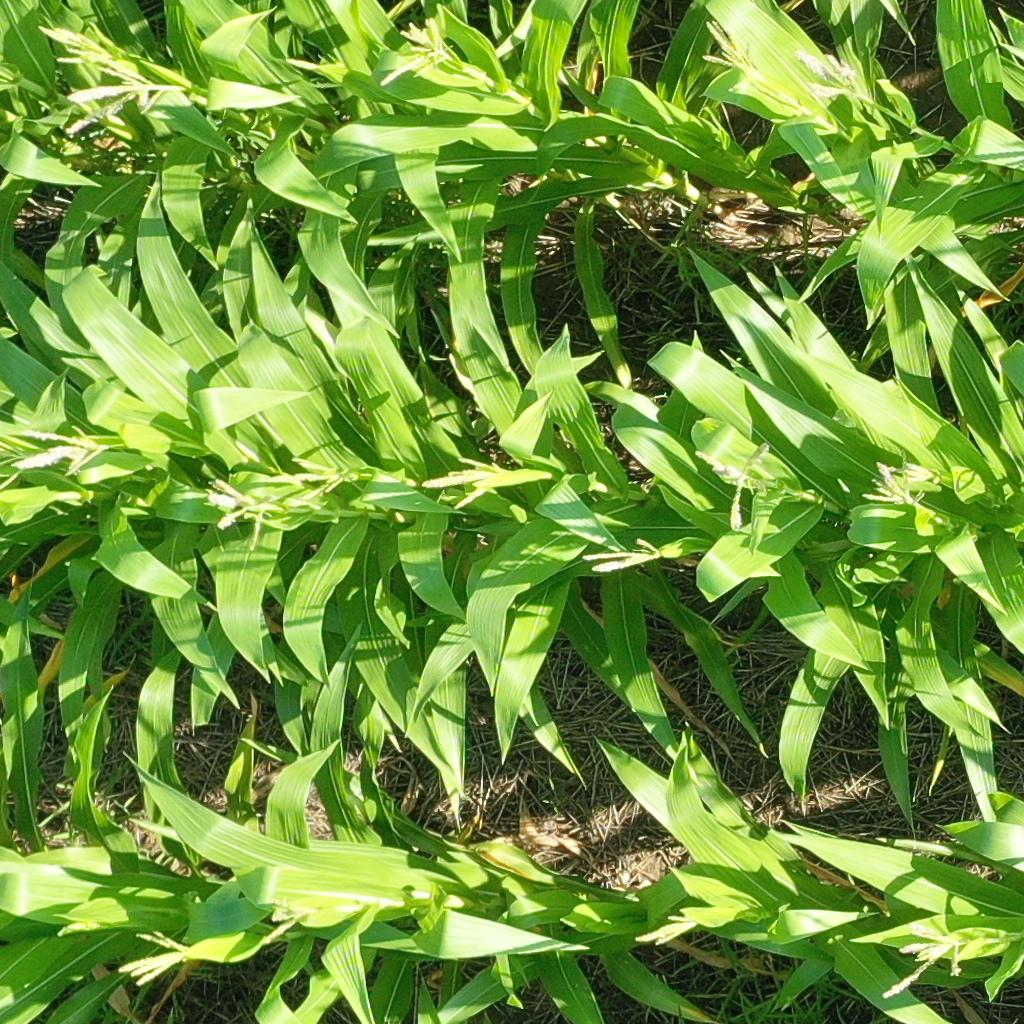Tassel: (60, 69, 190, 133), (690, 439, 774, 528), (879, 918, 967, 1000), (379, 14, 459, 90), (12, 423, 107, 479), (117, 928, 197, 991), (793, 45, 871, 108), (203, 473, 270, 546), (420, 454, 507, 509), (38, 21, 129, 73), (268, 455, 352, 509), (700, 16, 764, 81), (579, 535, 661, 581), (256, 898, 321, 951), (278, 48, 353, 92), (860, 456, 921, 510), (633, 913, 706, 949), (55, 915, 100, 941), (901, 458, 935, 483)
